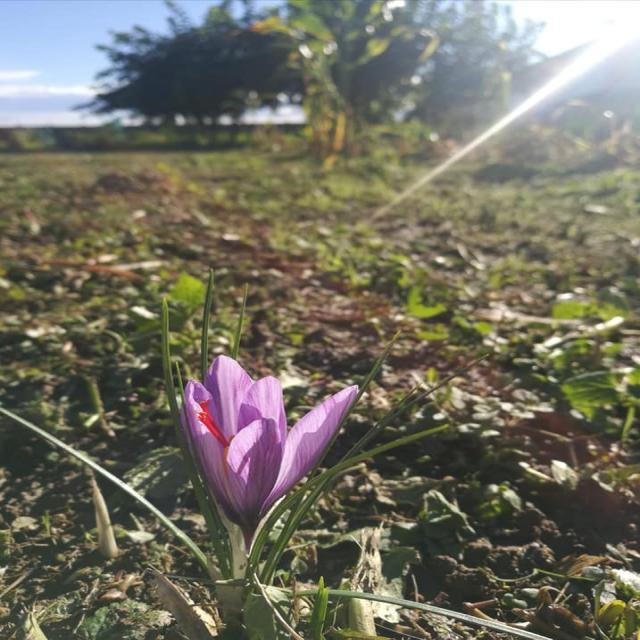saffron open: (182, 355, 358, 545)
